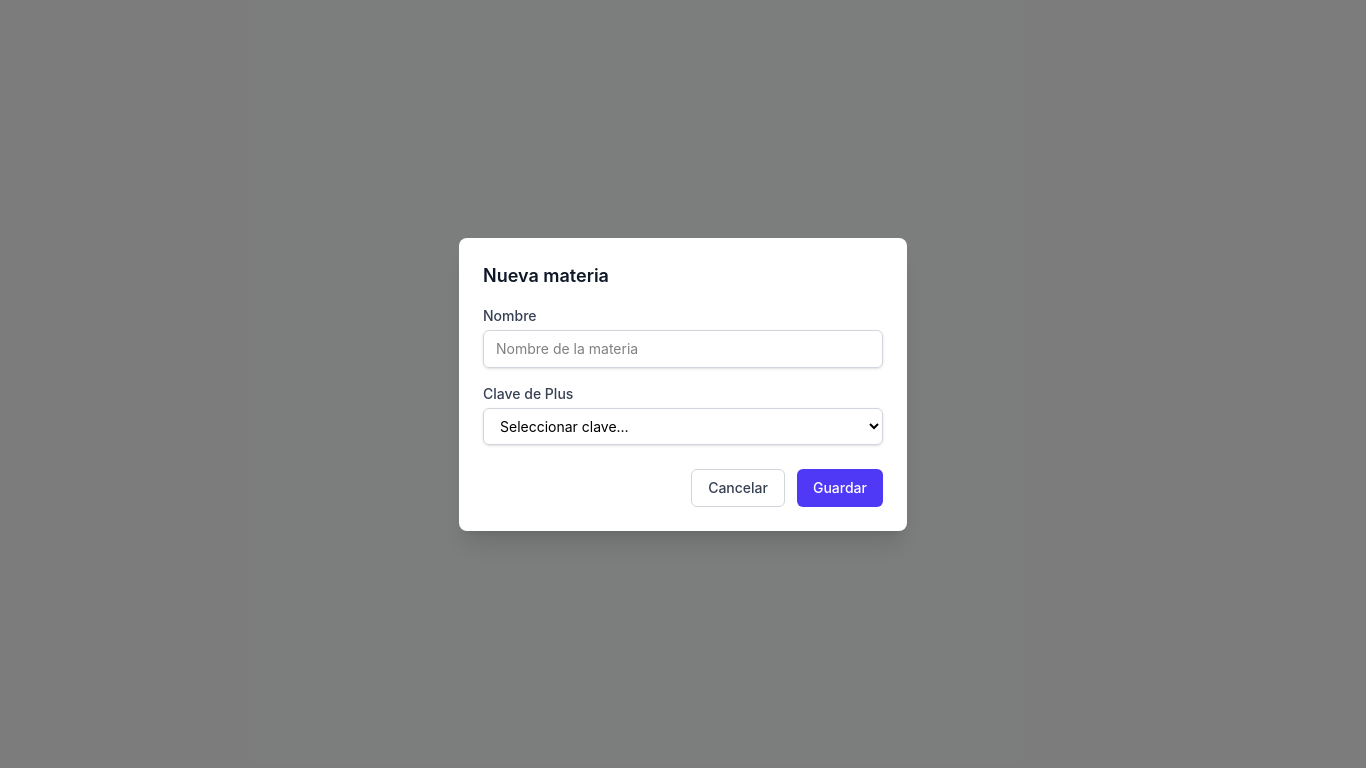
Test: MateriaFormDialog › submit sin nombre muestra error de validación Zod
Step 1. Select "PROG" in the dropdown → (683, 426), box [483,408,883,444]
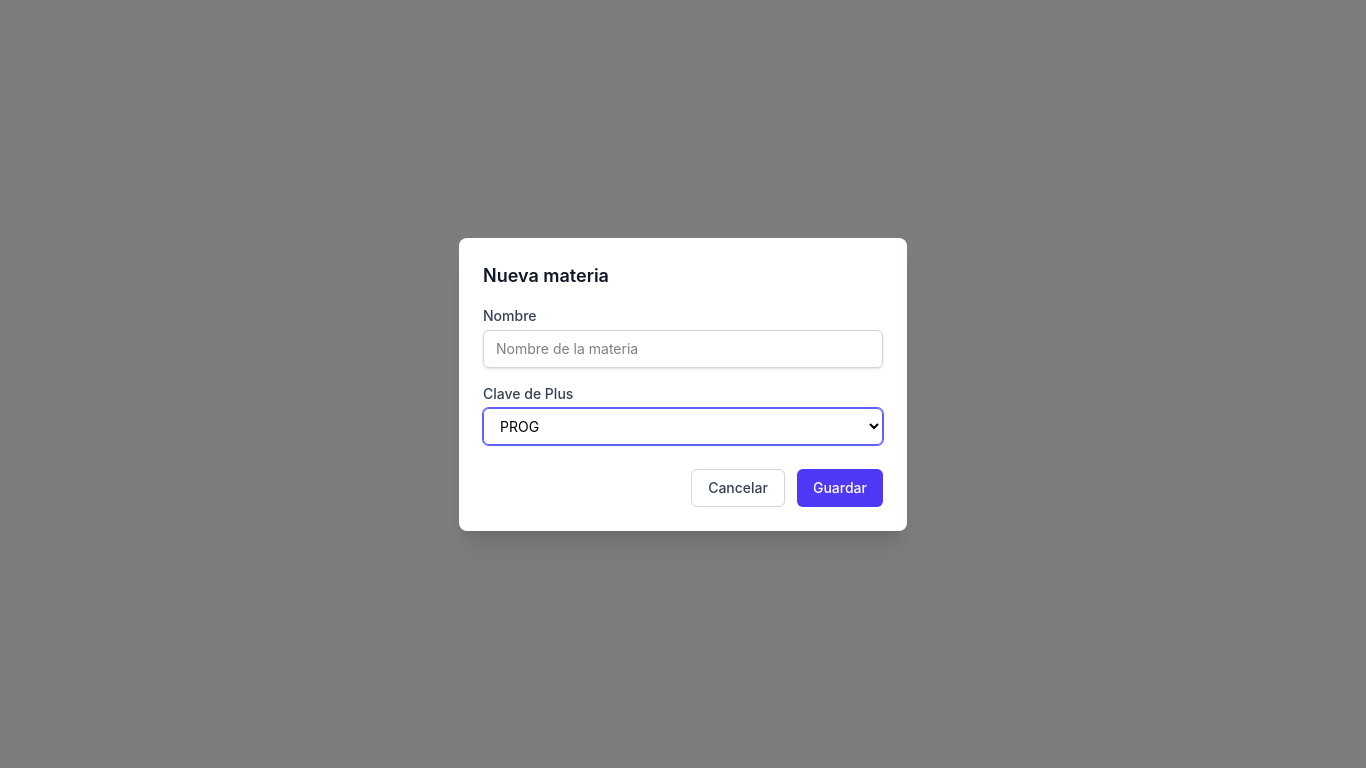
Step 2. Click the button "Guardar" → (840, 488), box [797,468,883,506]
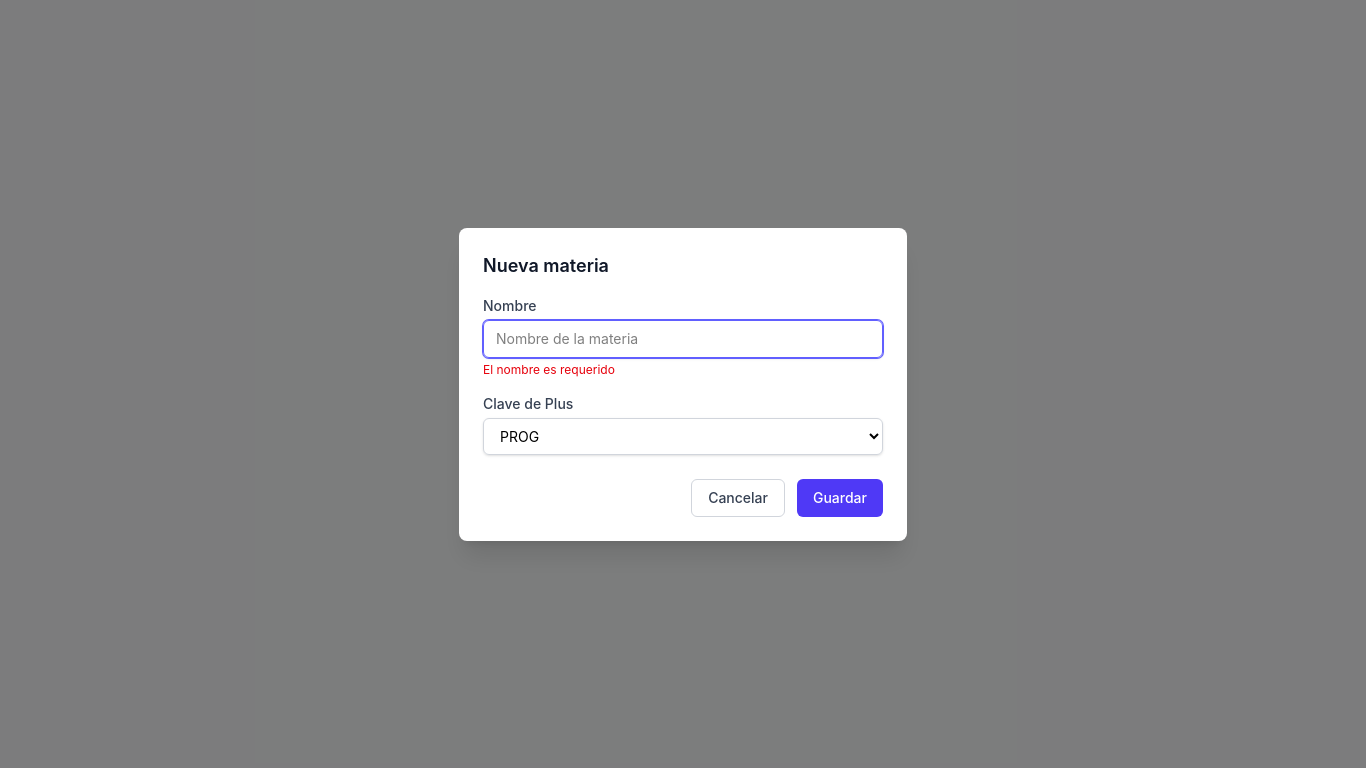
Now the text "El nombre es requerido" is shown, box [483,362,615,376]
